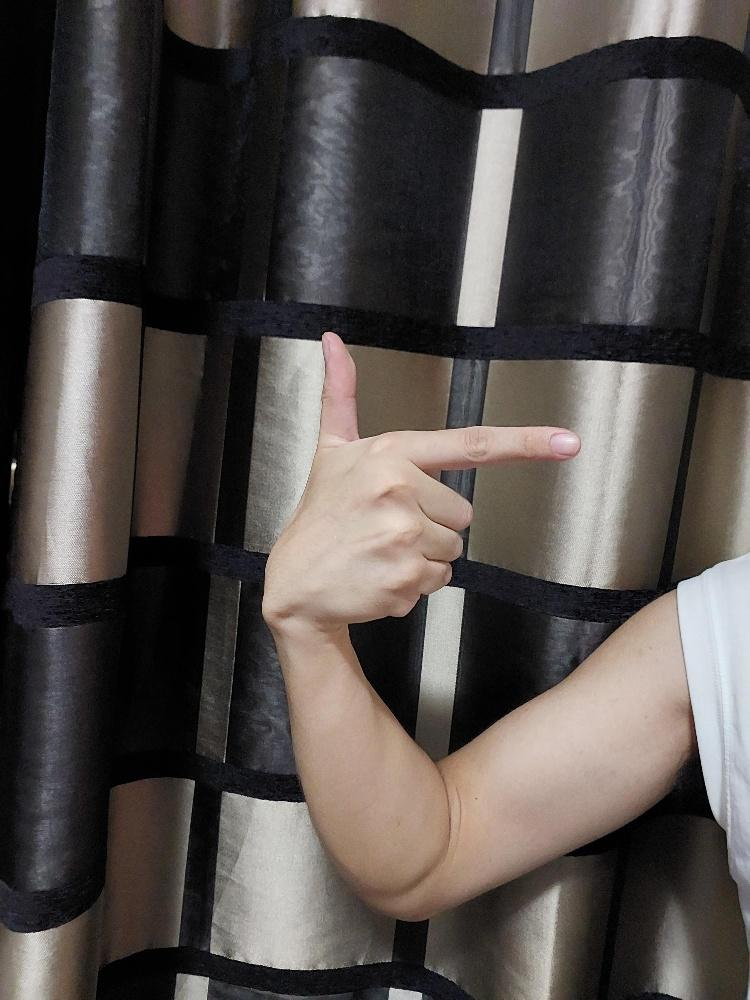g: (259, 327, 585, 631)
